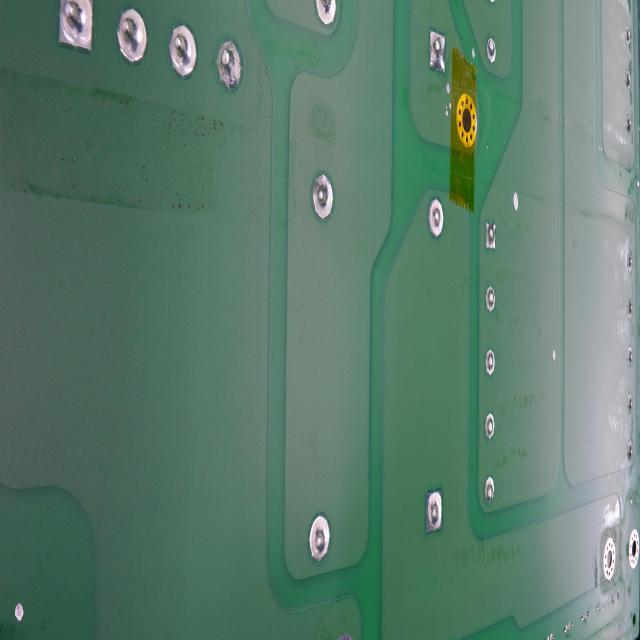spillover: (11, 596, 26, 624), (510, 186, 520, 216), (548, 345, 558, 363), (468, 43, 478, 61), (446, 82, 450, 95)
